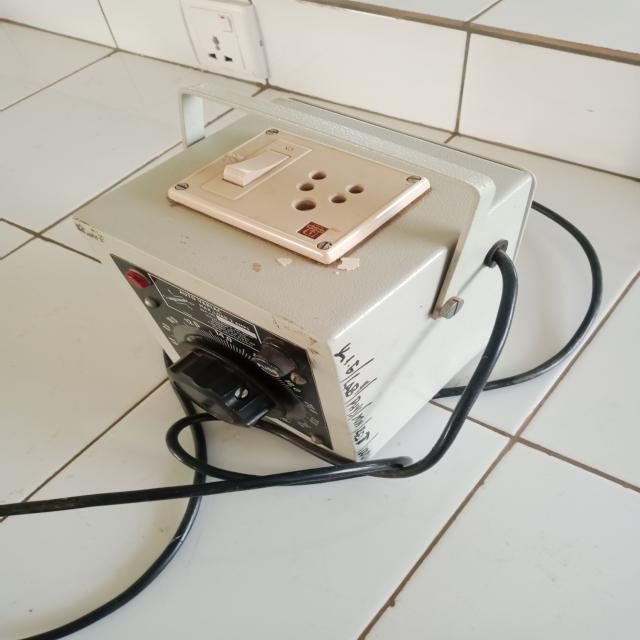Auto Variac AC Transformer 0-280 V: (70, 112, 544, 464)
